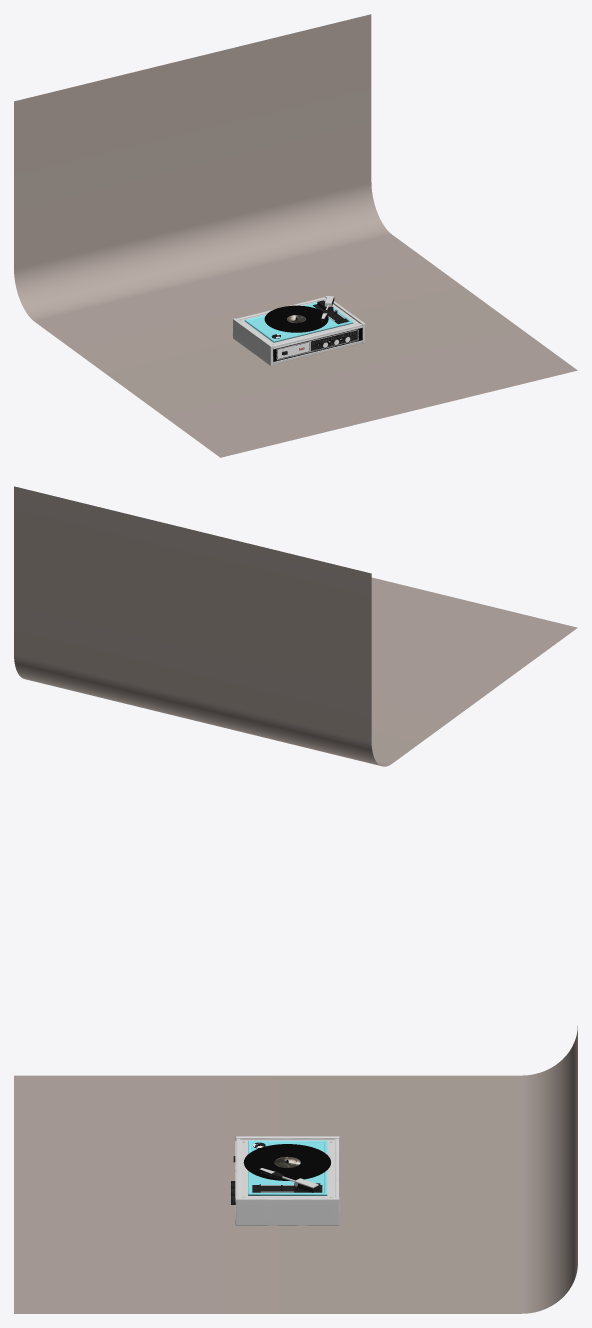
The model's file is record player.fbx.
3 views of the same model, one above another, from view 1: azimuth 30°, elevation 25°; view 2: azimuth 150°, elevation 25°; view 3: azimuth 270°, elevation 25° (orthographic). The views are drawn at different scales.
Visible parts, largest first — view 1: Plane, Cylinder.010, Cube, Plane.003, Plane.004; view 2: Plane; view 3: Plane, Plane.003, Cylinder.010, Plane.004, Plane.007.
Part boxes in pixels (x1,y1,x2,y2): Plane: (14,14,577,457); Cylinder.010: (264,305,328,332); Cube: (273,326,362,363); Plane.003: (232,296,364,365); Plane.004: (244,302,353,342); Plane: (14,486,577,766); Plane: (14,1026,577,1313); Plane.003: (235,1136,339,1225); Cylinder.010: (243,1144,330,1180); Plane.004: (248,1140,327,1195); Plane.007: (240,1139,334,1197).
Bounding box in the file's own units: 200 × 110 × 200.
Materials: 24 (7 with a texture image).
